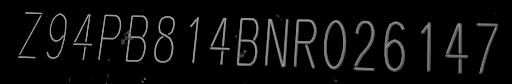letter: (440, 19, 472, 75), (471, 20, 503, 76), (382, 20, 408, 74), (16, 9, 44, 59), (322, 19, 348, 71), (352, 19, 378, 71), (96, 12, 122, 62), (206, 16, 232, 66), (292, 18, 318, 68), (125, 13, 149, 63), (152, 14, 176, 64), (236, 16, 260, 66), (264, 17, 288, 67), (45, 12, 67, 64), (416, 20, 436, 72), (72, 12, 92, 63), (186, 13, 200, 65)
